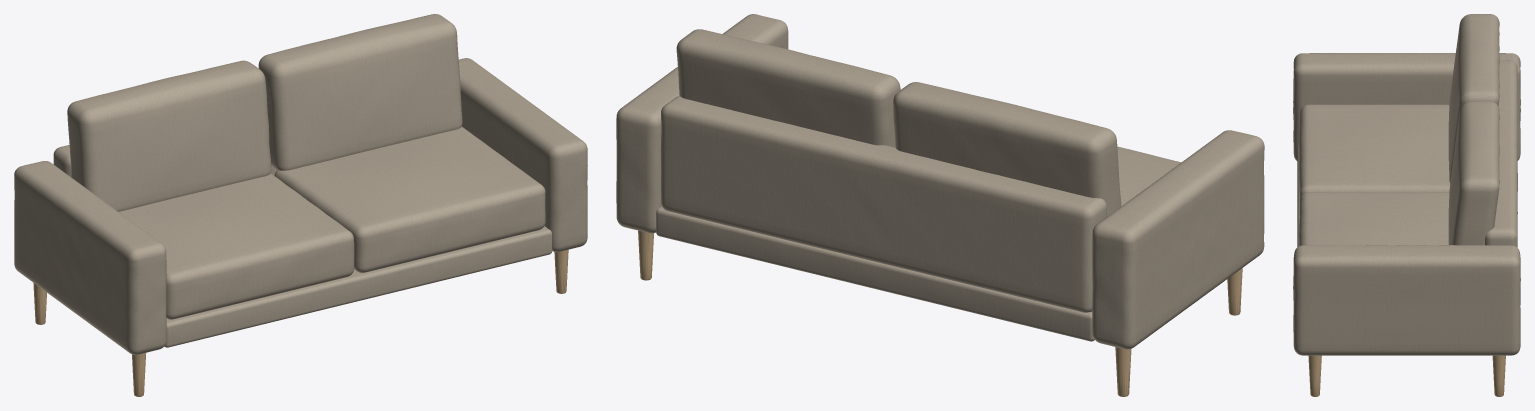
The picture shows the model from 3 angles, left to right: view 1: azimuth 30°, elevation 25°; view 2: azimuth 150°, elevation 25°; view 3: azimuth 270°, elevation 25°; orthographic projection. The views are drawn at different scales.
Parts seen in each view (by area): view 1: sf2s-084; view 2: sf2s-084; view 3: sf2s-084.
Boxes of the visible parts, left/top/right/bottom form: sf2s-084: left=14, top=14, right=587, bottom=396; sf2s-084: left=616, top=14, right=1264, bottom=396; sf2s-084: left=1293, top=14, right=1520, bottom=396.
Bounding box in the file's own units: 1.75 × 0.7966 × 0.8048.
Materials: 2 (1 with a texture image).
